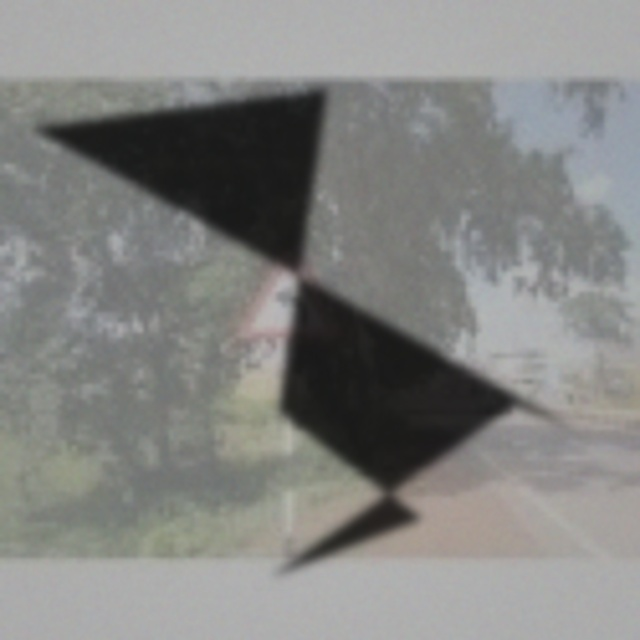Left_Hand_Curve: (239, 248, 338, 346)
